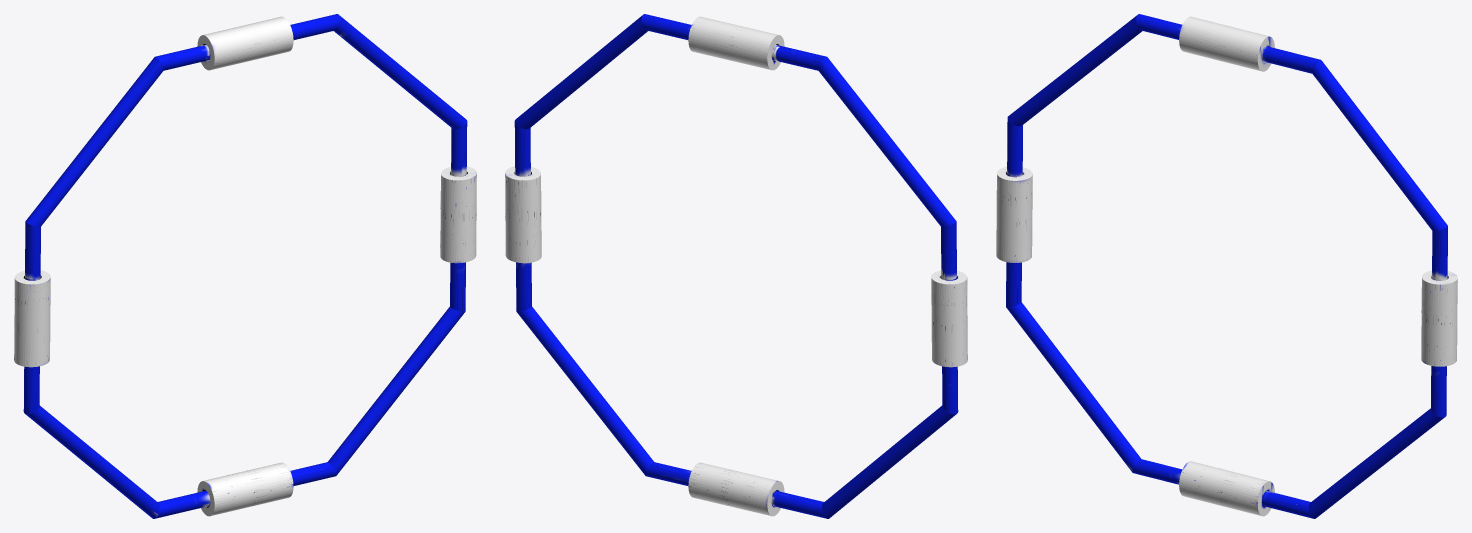
Rendered from octogon.dae.
3 views of the same model, side by side, from view 1: azimuth 30°, elevation 25°; view 2: azimuth 150°, elevation 25°; view 3: azimuth 330°, elevation 25° (orthographic).
Parts seen in each view (by area): view 1: Subjugator_Octagon_Model; view 2: Subjugator_Octagon_Model; view 3: Subjugator_Octagon_Model.
Boxes of the visible parts, box(x1,y1,x2,y2) form: Subjugator_Octagon_Model: box(14, 14, 476, 518); Subjugator_Octagon_Model: box(505, 14, 967, 518); Subjugator_Octagon_Model: box(996, 14, 1457, 518).
Size of the model in its own units: 2.74 by 0.1778 by 2.74.
Materials: 1 (1 with a texture image).
